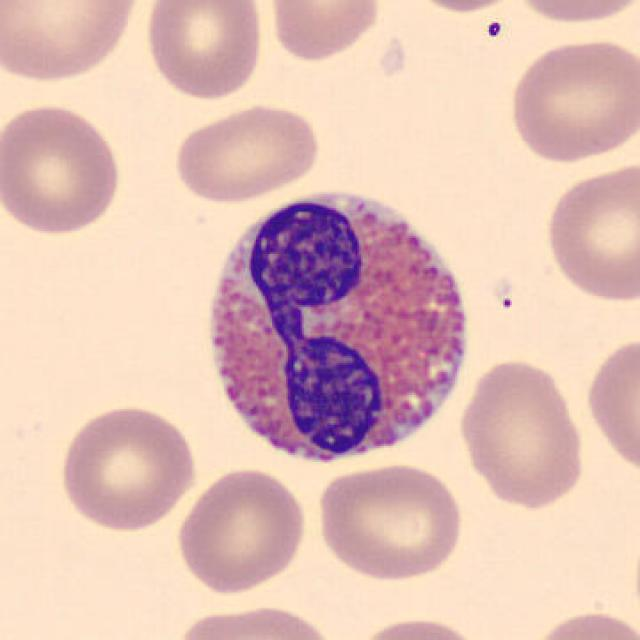Eosinophil: (188, 169, 486, 485)
Platelets: (483, 18, 505, 40)
RBC: (455, 354, 590, 512), (311, 458, 468, 584), (55, 400, 199, 534), (173, 464, 311, 596), (503, 34, 638, 165), (0, 99, 126, 238), (169, 100, 322, 206), (540, 157, 640, 307), (140, 0, 266, 102), (0, 0, 146, 86), (582, 332, 638, 482), (265, 0, 384, 63), (169, 601, 339, 640), (524, 606, 638, 640), (350, 613, 490, 640), (508, 0, 640, 28), (396, 0, 528, 14)
